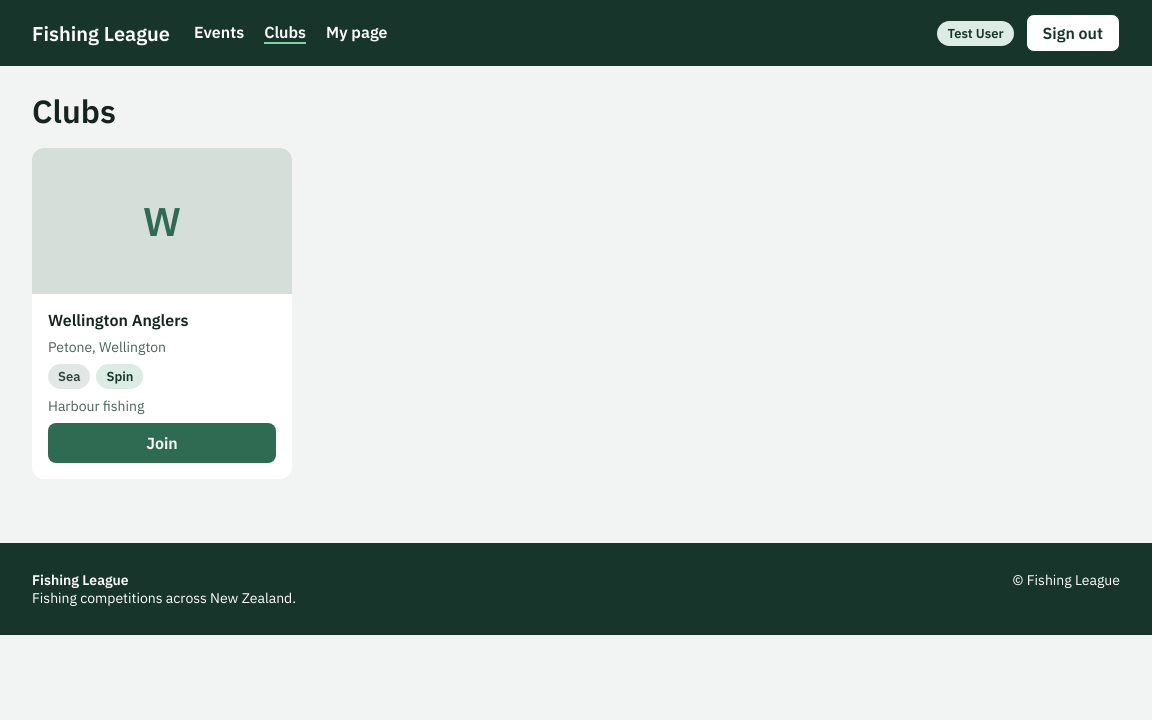
Scenario: clubs pages › joining a club saves it on the profile
Click the button "Join": click(162, 443) [48, 423, 276, 463]
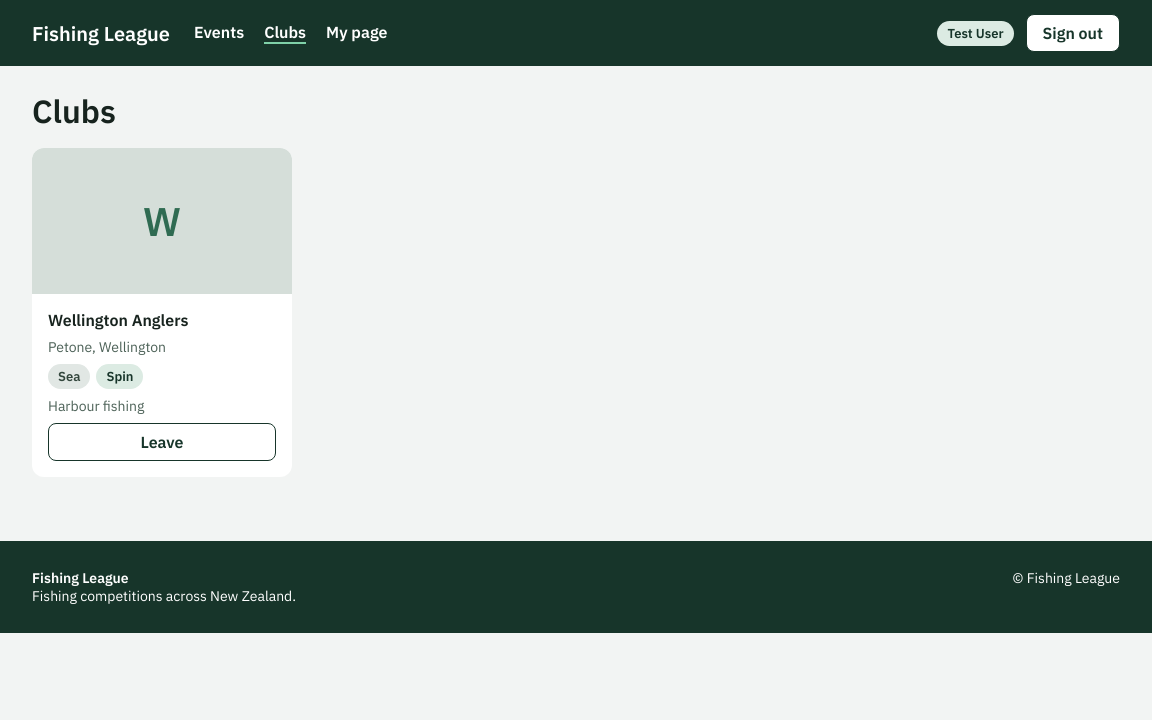
Check: the button "Leave" is shown, box [48, 423, 276, 461]
